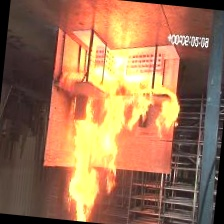fire: (36, 24, 189, 224)
